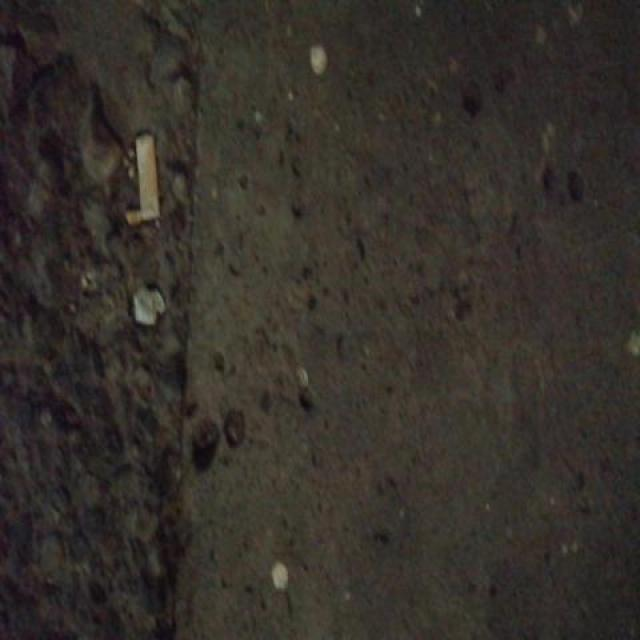non-organic waste: (131, 128, 165, 225)
